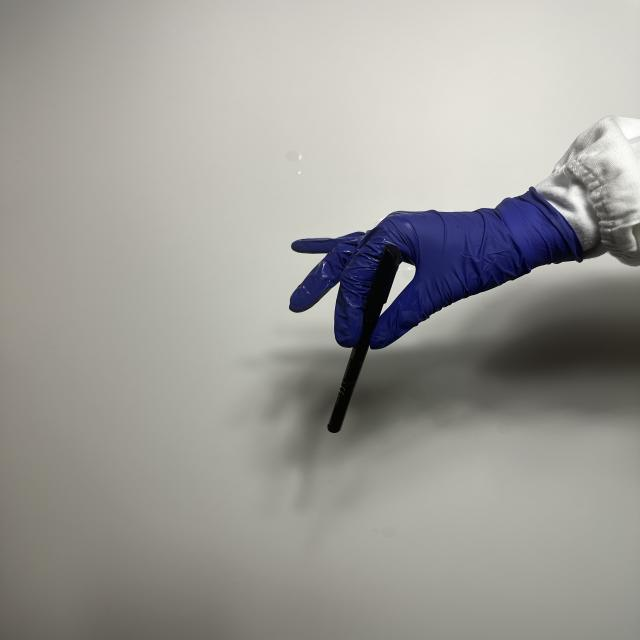gloves_contaminated: (290, 188, 582, 348)
